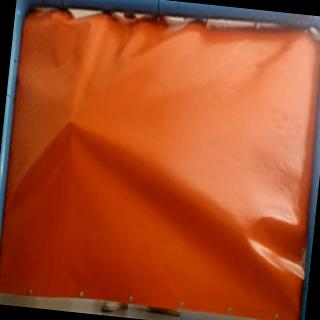Hit-hRxx: (62, 115, 83, 128)
